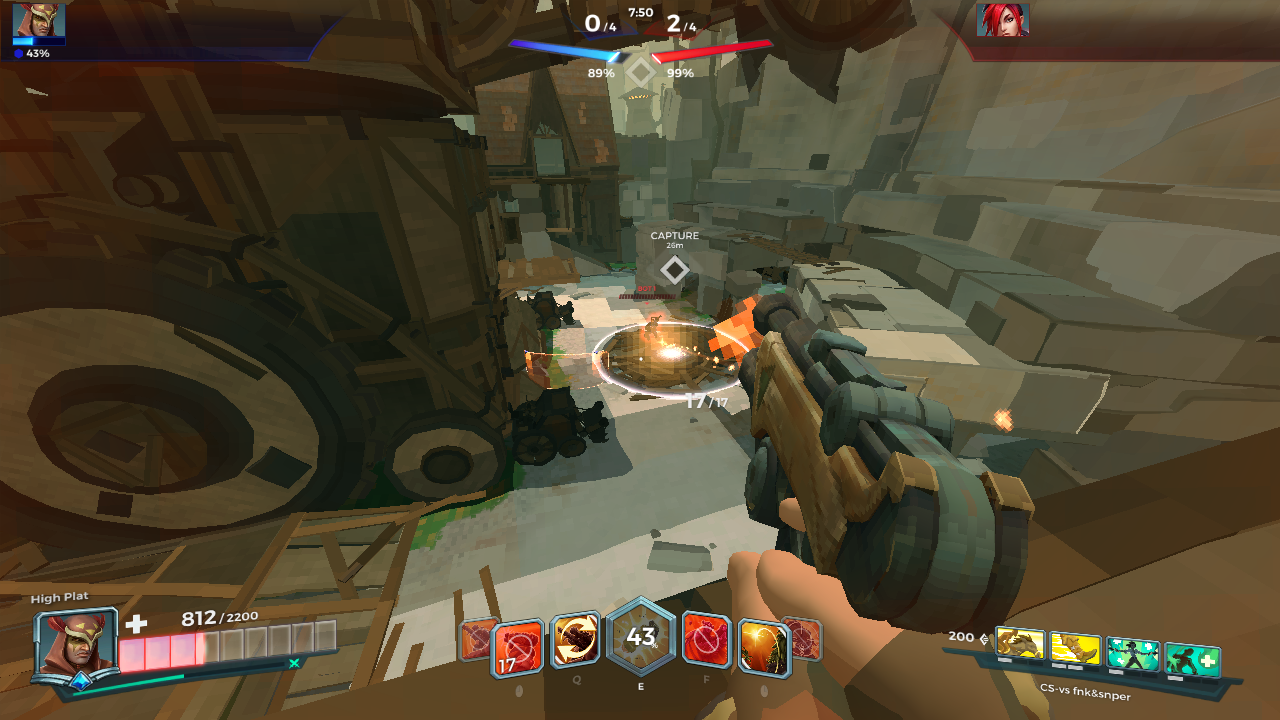model: (640, 313, 658, 334)
